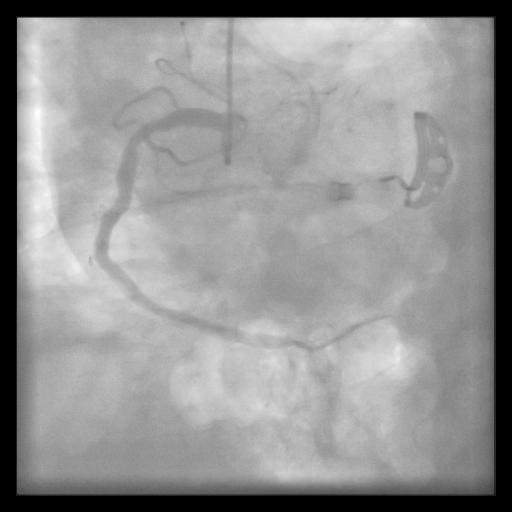Stenosis: (127, 122, 164, 141)
